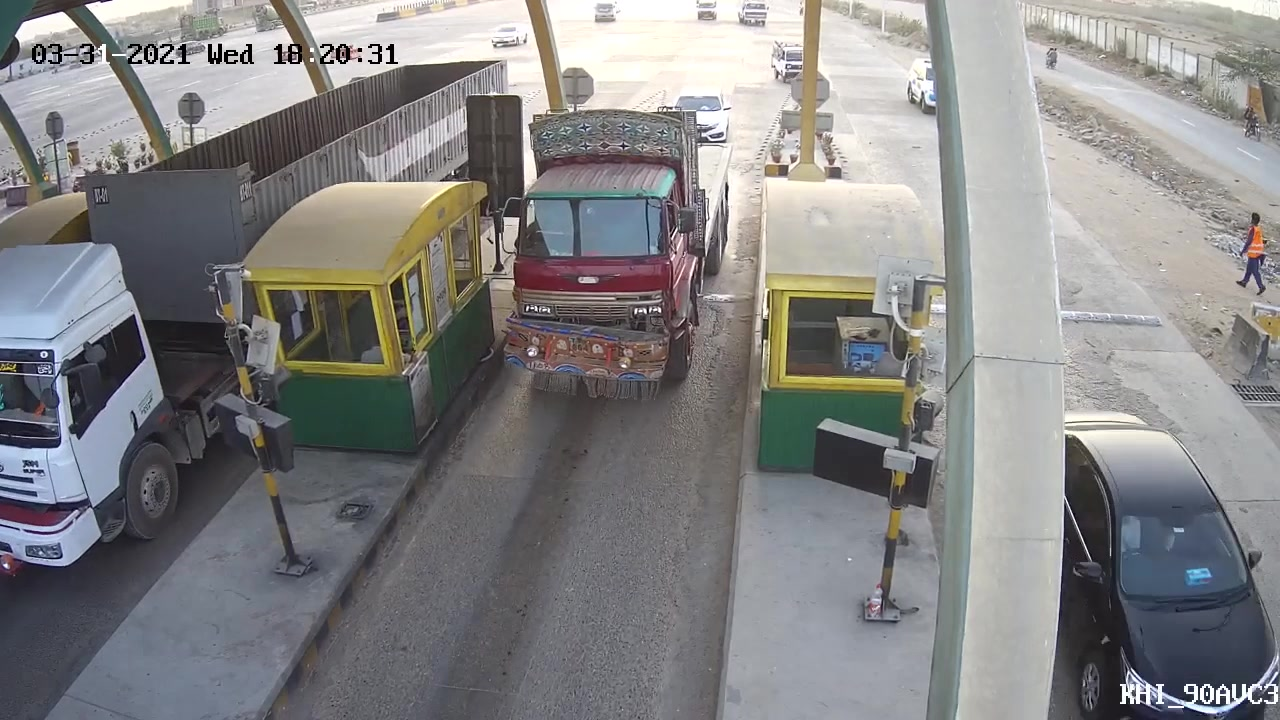F6: (493, 102, 736, 405)
